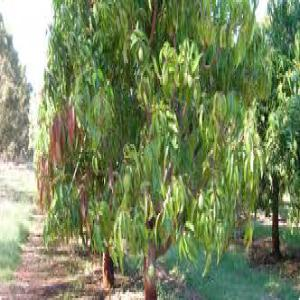Tree: (30, 2, 284, 294)
